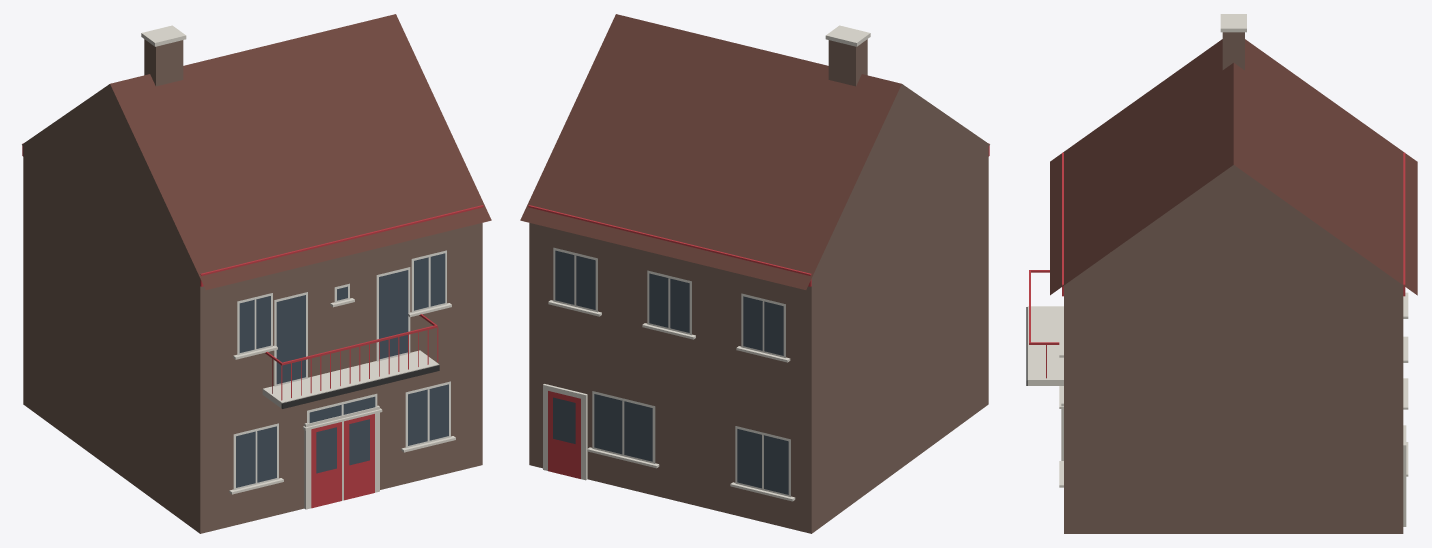
The model's file is oo-ta-centre__red__2__gable__long__solid.glb.
3 renders of one model, left to right at view 1: azimuth 30°, elevation 25°; view 2: azimuth 150°, elevation 25°; view 3: azimuth 270°, elevation 25°, orthographic. The views are drawn at different scales.
Visible parts, largest first — view 1: oo-ta-centre__red__2__gable__long__solid; view 2: oo-ta-centre__red__2__gable__long__solid; view 3: oo-ta-centre__red__2__gable__long__solid.
Boxes of the visible parts, x1=… form: oo-ta-centre__red__2__gable__long__solid: x1=22, y1=14, x2=491, y2=533; oo-ta-centre__red__2__gable__long__solid: x1=520, y1=14, x2=989, y2=533; oo-ta-centre__red__2__gable__long__solid: x1=1026, y1=14, x2=1417, y2=533.
Bounding box in the file's own units: 7.81 × 11.02 × 9.65.
